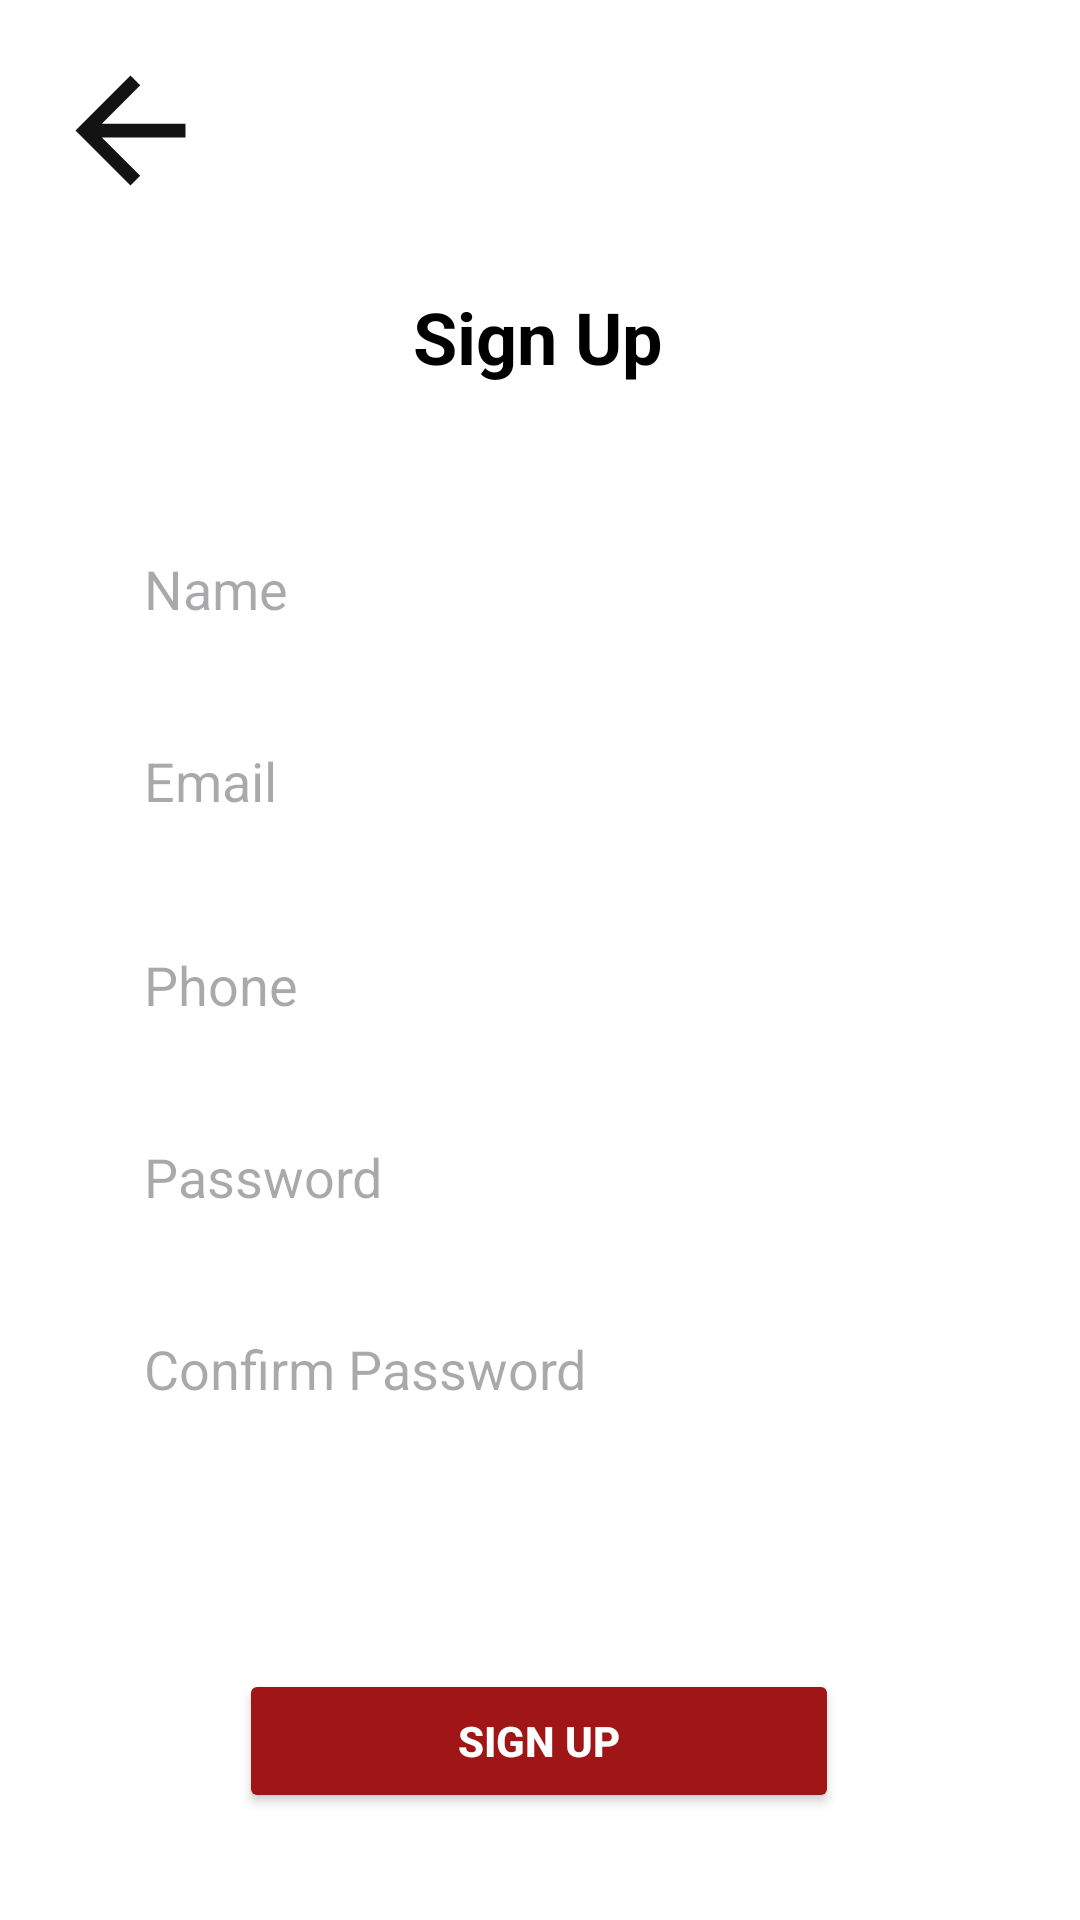

Point at icon controls on the screen. Image size 1080 × 1920, points as (x,y).
Back Button: (130,130)
